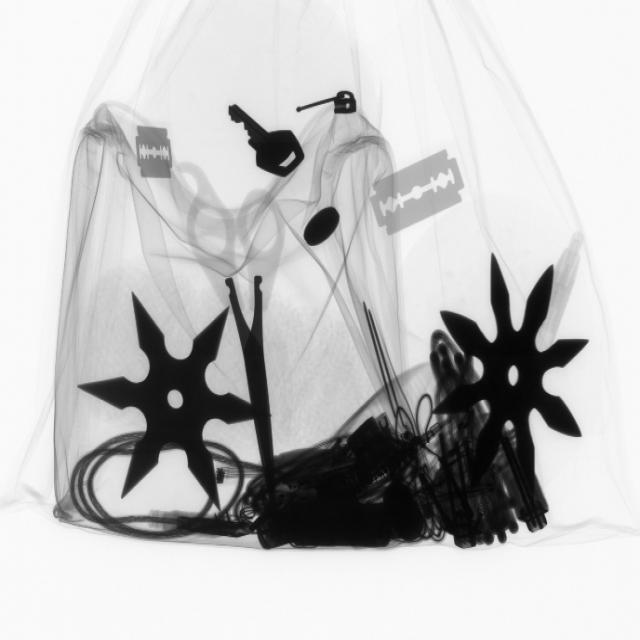BLADE: (370, 142, 472, 243), (130, 120, 182, 189)
SHURIKEN: (438, 254, 597, 489), (85, 290, 254, 508)
